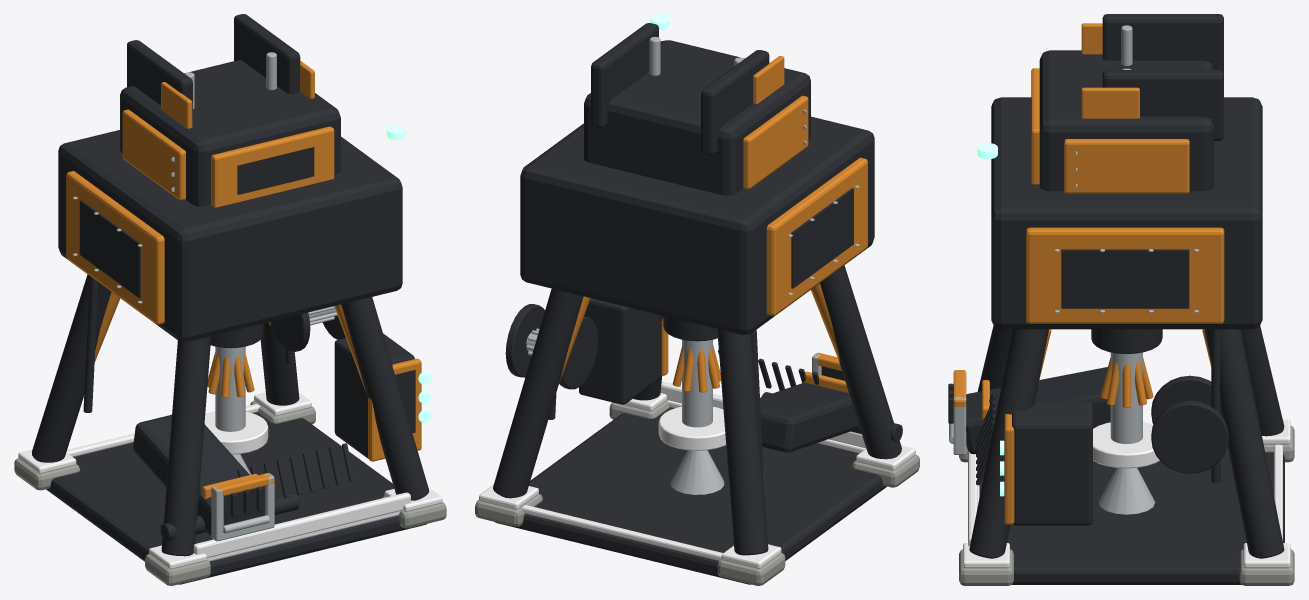
Rendered from miner_mk1.glb.
The picture shows the model from 3 angles, left to right: view 1: azimuth 30°, elevation 25°; view 2: azimuth 150°, elevation 25°; view 3: azimuth 270°, elevation 25°; orthographic projection. The views are drawn at different scales.
Visible parts, largest first — view 1: Main_Body, Drill_Mesh; view 2: Main_Body, Drill_Mesh; view 3: Main_Body, Drill_Mesh.
Boxes of the visible parts, left/top/right/bottom form: Main_Body: left=14, top=14, right=446, bottom=585; Drill_Mesh: left=204, top=323, right=268, bottom=474; Main_Body: left=475, top=23, right=919, bottom=585; Drill_Mesh: left=658, top=316, right=726, bottom=494; Main_Body: left=948, top=14, right=1294, bottom=585; Drill_Mesh: left=1091, top=329, right=1162, bottom=514.
Size of the model in its own units: 4.33 by 6.49 by 4.28.
